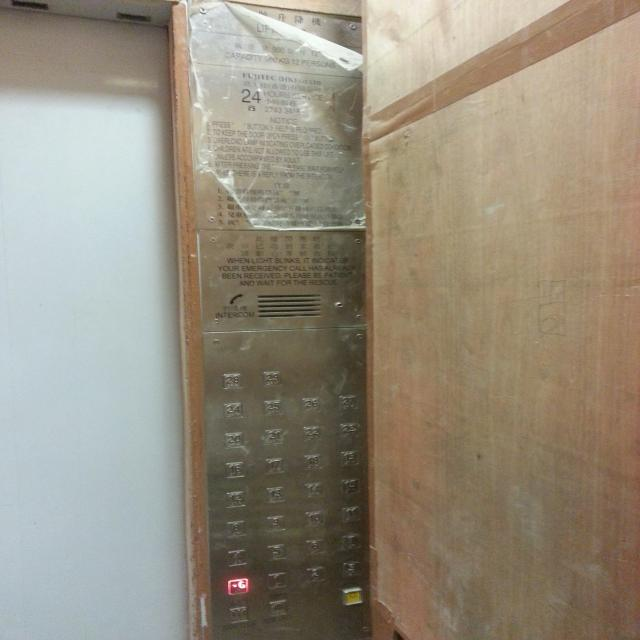1: (264, 571, 287, 590)
10: (301, 508, 324, 528)
12: (223, 489, 246, 509)
13: (264, 484, 286, 504)
14: (300, 481, 322, 499)
15: (337, 476, 360, 495)
16: (222, 460, 245, 480)
17: (262, 456, 284, 476)
18: (301, 452, 323, 470)
19: (337, 449, 360, 468)
2: (303, 565, 326, 583)
20: (222, 431, 244, 447)
21: (262, 427, 284, 444)
22: (300, 424, 321, 440)
23: (336, 421, 358, 437)
24: (222, 402, 243, 419)
25: (262, 400, 284, 416)
26: (300, 396, 321, 412)
27: (337, 394, 358, 410)
28: (222, 373, 242, 390)
29: (261, 370, 282, 388)
3: (340, 559, 362, 578)
4: (225, 548, 248, 567)
5: (264, 542, 286, 561)
7: (339, 532, 362, 551)
8: (223, 518, 246, 538)
9: (264, 513, 286, 533)
G: (226, 576, 249, 595)
alarm: (340, 586, 363, 606)
blur: (302, 536, 326, 556), (340, 504, 362, 523)
close: (227, 605, 250, 624)
open: (266, 599, 288, 618)
